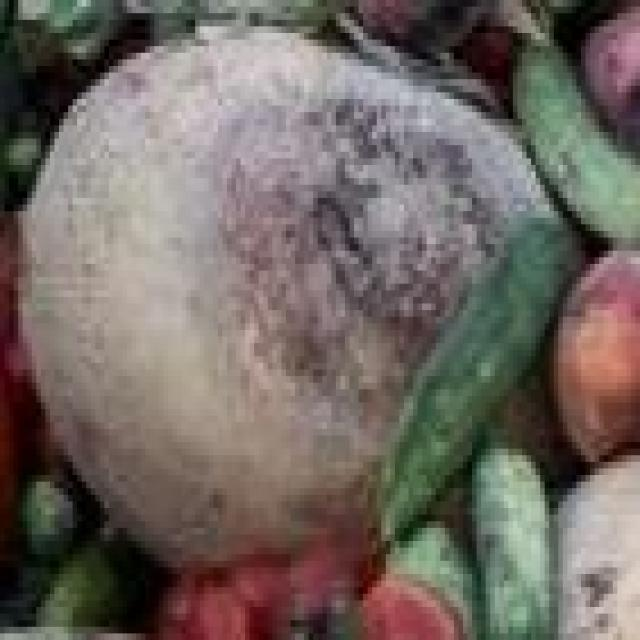food waste: (6, 31, 597, 624)
